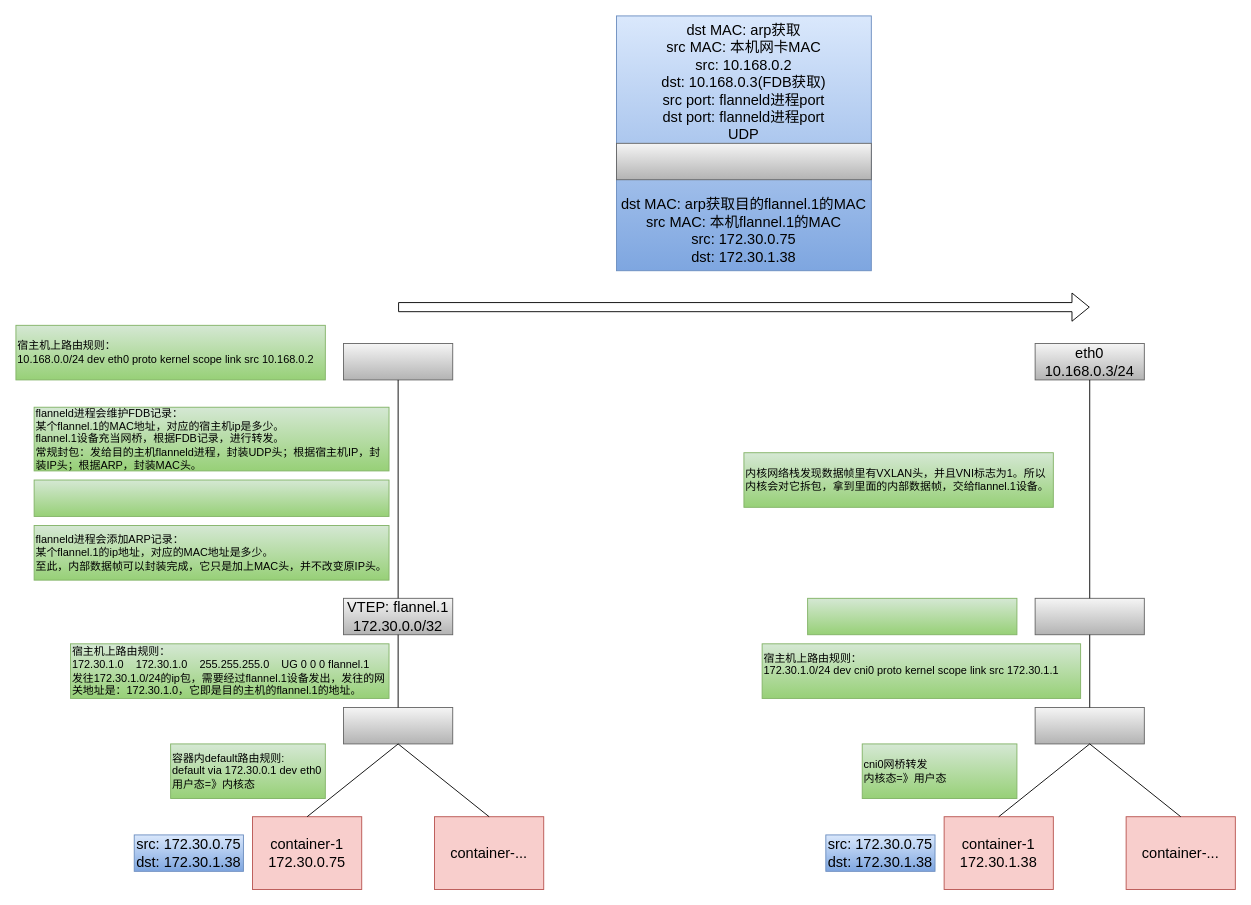
Some shapes in this 1251 by 905 pixel diagram are drawn without their labels. Each missing label, with the centre of its shape:
cni0 172.30.0.1/24: the point at 398,725
cni0 172.30.1.1/24: the point at 1089,725
eth0 10.168.0.2/24: the point at 398,361
flannel.1设备进一步拆包，取出原始IP包。: the point at 912,616
VTEP: flannel.1 172.30.1.0/32: the point at 1089,616
VXLAN Header: the point at 743,161
添加VXLAN头，设置VNI标志位为1。: the point at 211,497
